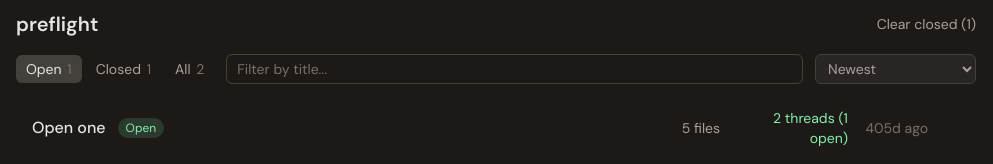
ReviewList filtering and sorting › status filter › shows closed reviews when Closed tab is clicked
The image size is (993, 164).
Step 1. Click the button "Closed 1" → [123, 69], box [86,55,161,83]
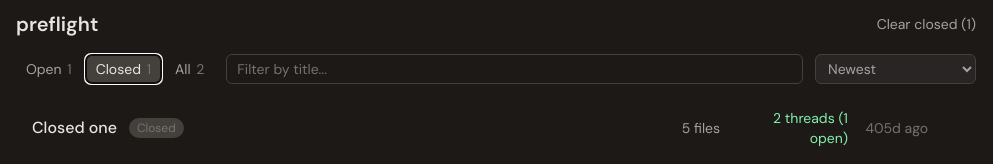
Expected: the button "Open one" is gone
Expected: the text "Closed one" is shown, [32,116,117,140]
